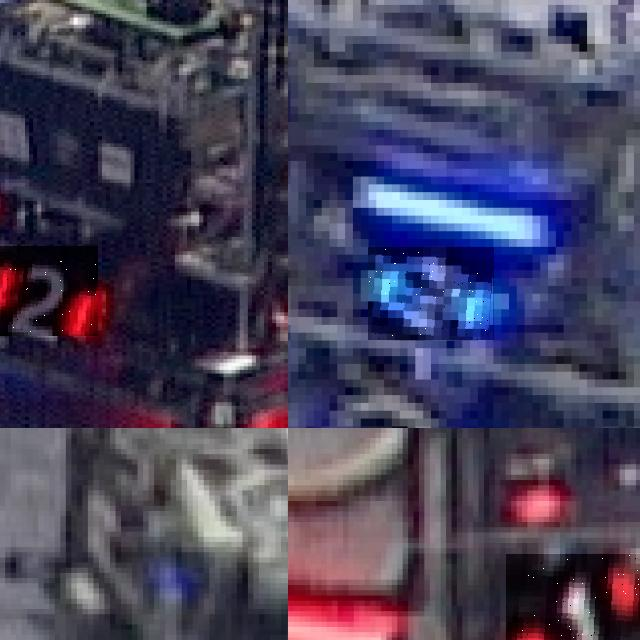B2: (368, 247, 494, 340)
R1: (505, 553, 640, 640)
R2: (0, 246, 97, 336)
